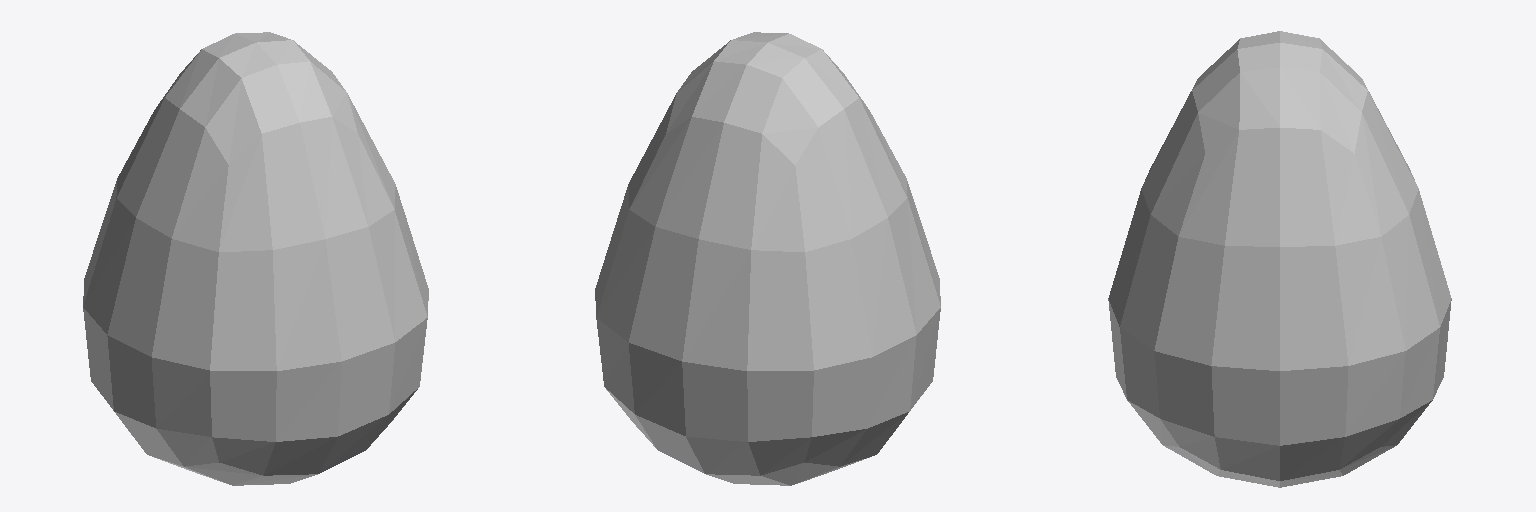
File: Egg.obj
3 views of the same model, side by side, from view 1: azimuth 30°, elevation 25°; view 2: azimuth 150°, elevation 25°; view 3: azimuth 270°, elevation 25° (orthographic).
Parts seen in each view (by area): view 1: pCube2; view 2: pCube2; view 3: pCube2.
Boxes of the visible parts, <box> form: pCube2: <box>83,32,428,485</box>; pCube2: <box>595,32,940,485</box>; pCube2: <box>1108,31,1451,487</box>.
Bounding box in the file's own units: 0.8848 × 1.21 × 0.8848.